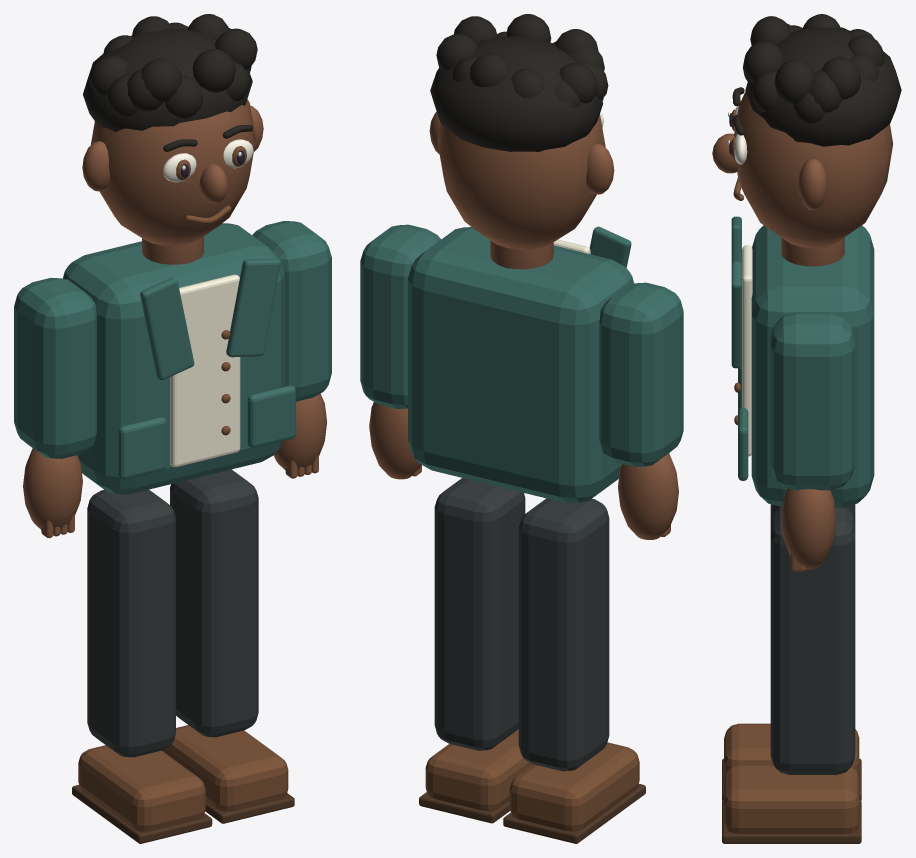
The model's file is resident_1.glb.
3 views of the same model, side by side, from view 1: azimuth 30°, elevation 25°; view 2: azimuth 150°, elevation 25°; view 3: azimuth 270°, elevation 25° (orthographic).
Visible parts, largest first — view 1: Jacket_body, Trouser_leg, Trouser_leg.001, Jacket_sleeve, Face, Shirt_front, Jacket_sleeve.001, Leather_shoe, Leather_shoe.001, Hair_cap, Lapel.001, Hand (+17 smaller); view 2: Jacket_body, Trouser_leg, Trouser_leg.001, Jacket_sleeve, Face, Hair_cap, Jacket_sleeve.001, Leather_shoe, Leather_shoe.001, Hand, Hand.001, Sole (+11 smaller); view 3: Trouser_leg.001, Jacket_body, Jacket_sleeve.001, Face, Leather_shoe.001, Hair_cap, Hand.001, Leather_shoe, Shirt_front, Sole.001, Curl.008, Neck (+14 smaller).
Boxes of the visible parts, left/top/right/bottom form: Jacket_body: left=63, top=223, right=284, bottom=494; Trouser_leg: left=87, top=489, right=175, bottom=757; Trouser_leg.001: left=170, top=469, right=258, bottom=737; Jacket_sleeve: left=14, top=277, right=96, bottom=458; Face: left=90, top=99, right=255, bottom=245; Shirt_front: left=170, top=274, right=240, bottom=467; Jacket_sleeve.001: left=252, top=221, right=331, bottom=401; Leather_shoe: left=78, top=745, right=205, bottom=831; Leather_shoe.001: left=162, top=725, right=288, bottom=811; Hair_cap: left=83, top=28, right=252, bottom=131; Lapel.001: left=226, top=258, right=280, bottom=357; Hand: left=23, top=448, right=82, bottom=529; Jacket_body: left=408, top=227, right=633, bottom=503; Trouser_leg: left=518, top=498, right=609, bottom=771; Trouser_leg.001: left=434, top=478, right=525, bottom=750; Jacket_sleeve: left=599, top=282, right=683, bottom=467; Face: left=437, top=114, right=605, bottom=249; Hair_cap: left=430, top=36, right=603, bottom=151; Jacket_sleeve.001: left=360, top=224, right=440, bottom=409; Leather_shoe: left=509, top=742, right=639, bottom=831; Leather_shoe.001: left=425, top=729, right=532, bottom=810; Hand: left=618, top=453, right=678, bottom=539; Hand.001: left=369, top=402, right=421, bottom=479; Sole: left=503, top=784, right=645, bottom=843; Trouser_leg.001: left=770, top=507, right=855, bottom=774; Jacket_body: left=751, top=225, right=874, bottom=507; Jacket_sleeve.001: left=770, top=312, right=855, bottom=490; Face: left=734, top=92, right=893, bottom=248; Leather_shoe.001: left=724, top=764, right=859, bottom=833; Hair_cap: left=745, top=27, right=901, bottom=146; Hand.001: left=781, top=488, right=835, bottom=569; Leather_shoe: left=724, top=723, right=859, bottom=778; Shirt_front: left=742, top=245, right=752, bottom=456; Sole.001: left=722, top=799, right=861, bottom=843; Curl.008: left=774, top=59, right=814, bottom=104; Neck: left=781, top=237, right=844, bottom=266.
Bounding box in the file's own units: 0.83 × 2.01 × 0.448.
